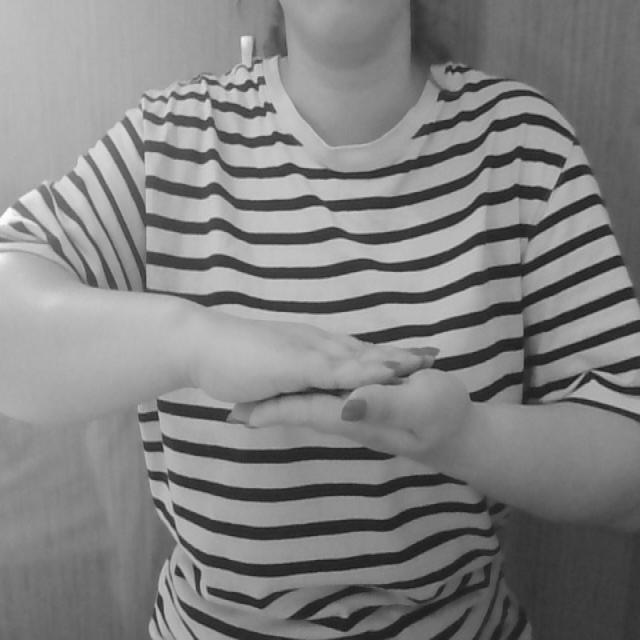Arkadas: (133, 271, 495, 469)
